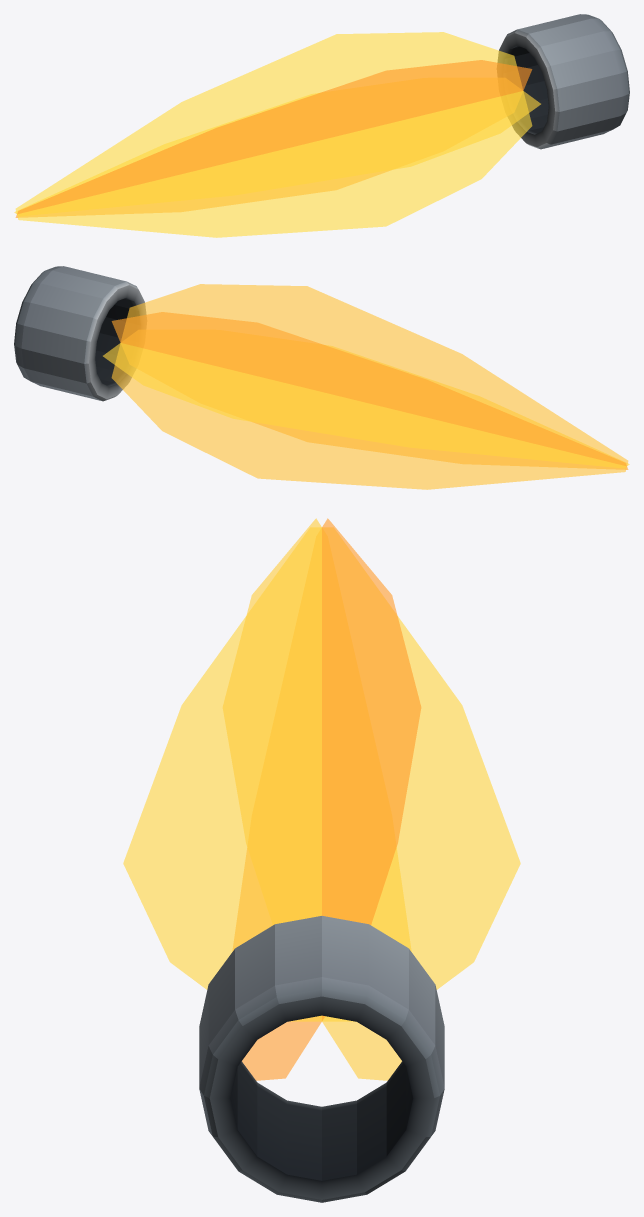
File: ArcadeBoostNozzle.glb
3 views of the same model, one above another, from view 1: azimuth 30°, elevation 25°; view 2: azimuth 150°, elevation 25°; view 3: azimuth 270°, elevation 25° (orthographic). The views are drawn at different scales.
Parts seen in each view (by area): view 1: FlameCards, NozzleHousing; view 2: FlameCards, NozzleHousing; view 3: FlameCards, NozzleHousing.
Part boxes in pixels (x1=…): FlameCards: x1=14, y1=32, x2=540, y2=237; NozzleHousing: x1=497, y1=14, x2=629, y2=149; FlameCards: x1=103, y1=284, x2=629, y2=489; NozzleHousing: x1=14, y1=266, x2=146, y2=401; FlameCards: x1=123, y1=518, x2=520, y2=1080; NozzleHousing: x1=199, y1=916, x2=444, y2=1202.
Size of the model in its own units: 1.16 by 0.2944 by 0.34.
